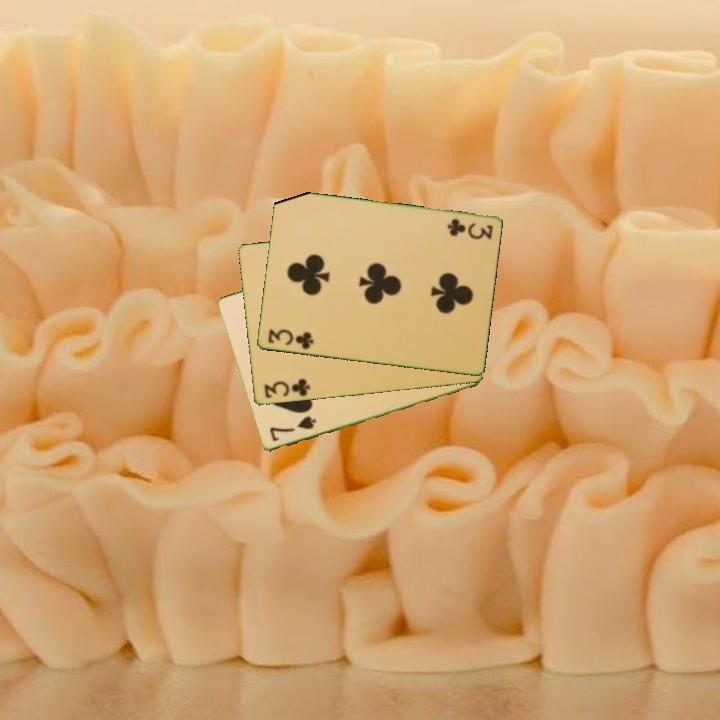3c: (260, 375, 313, 401), (264, 326, 316, 352), (443, 215, 495, 241)
7s: (266, 413, 319, 445)
